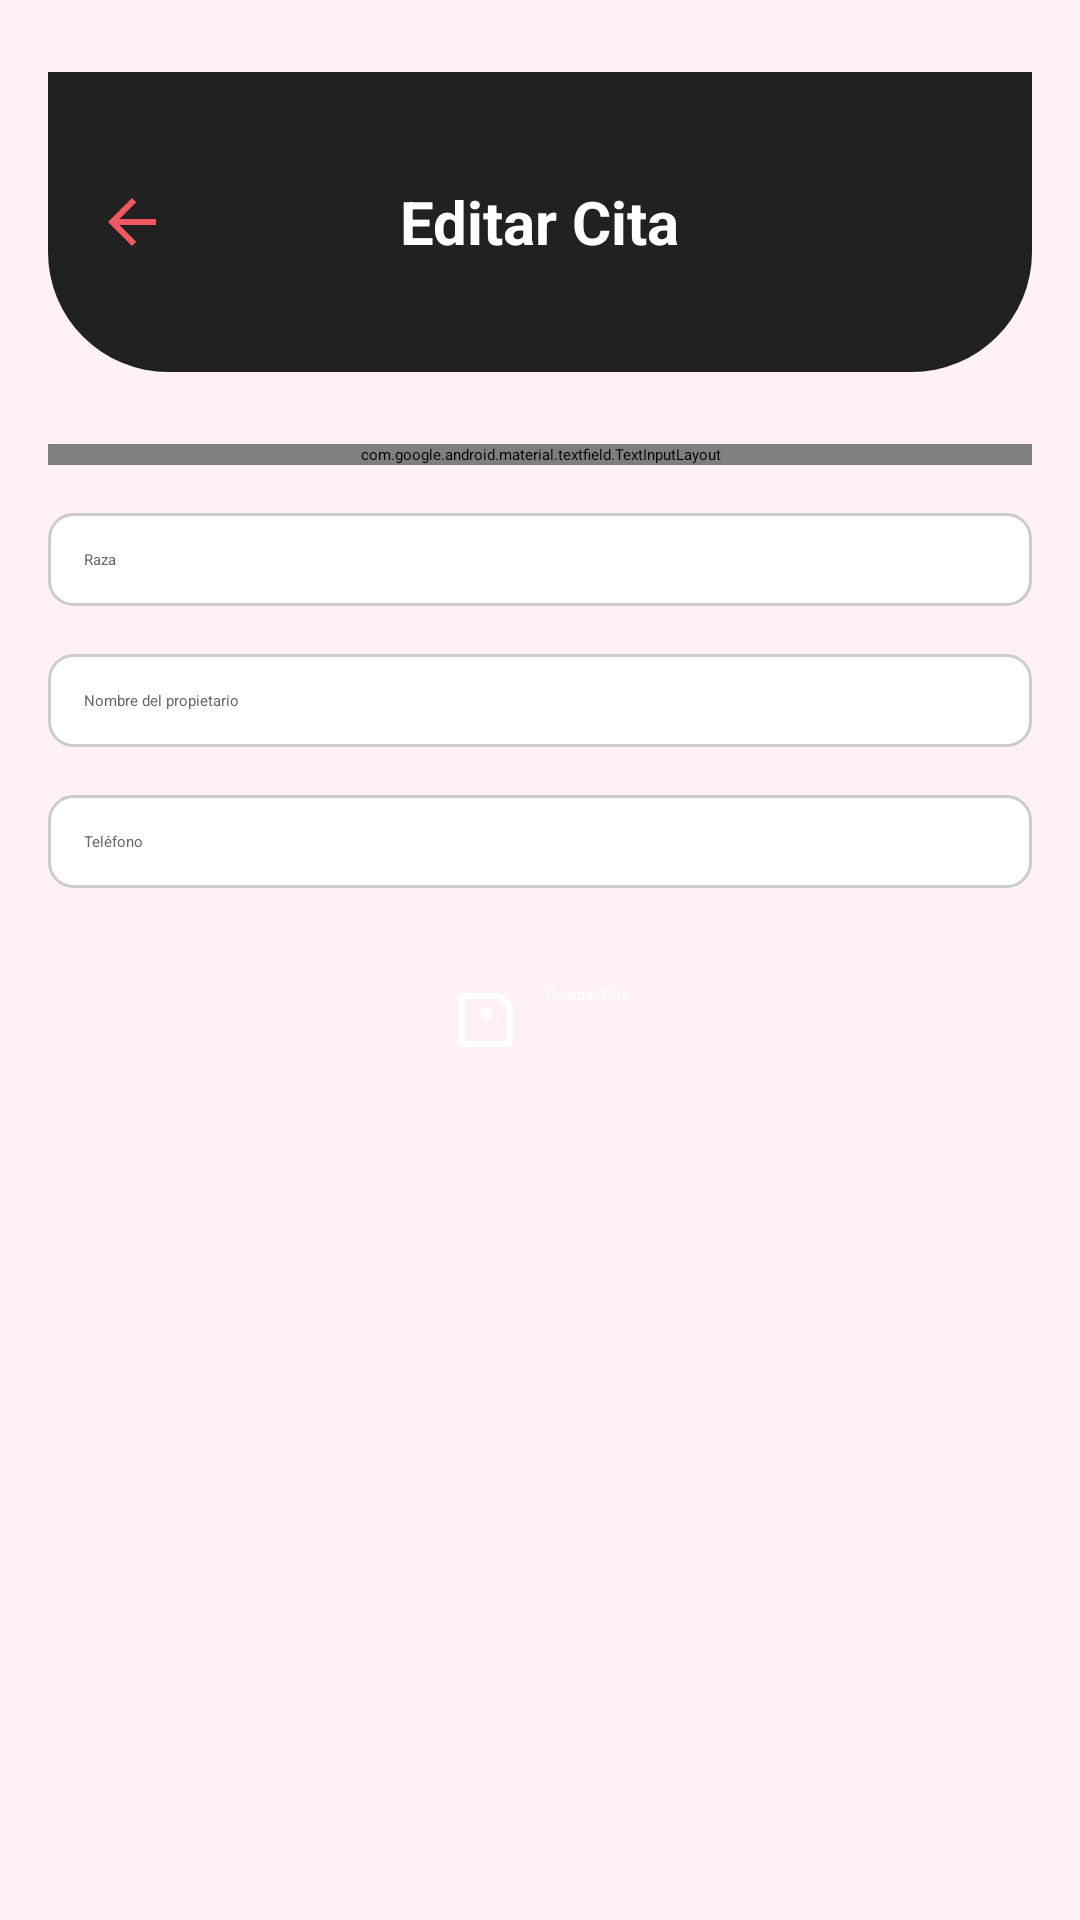

Where icons sit on this 1080x1920 app screen, as bbox(x1, y1, x2, y2):
Regresar: bbox(108, 198, 156, 246)
